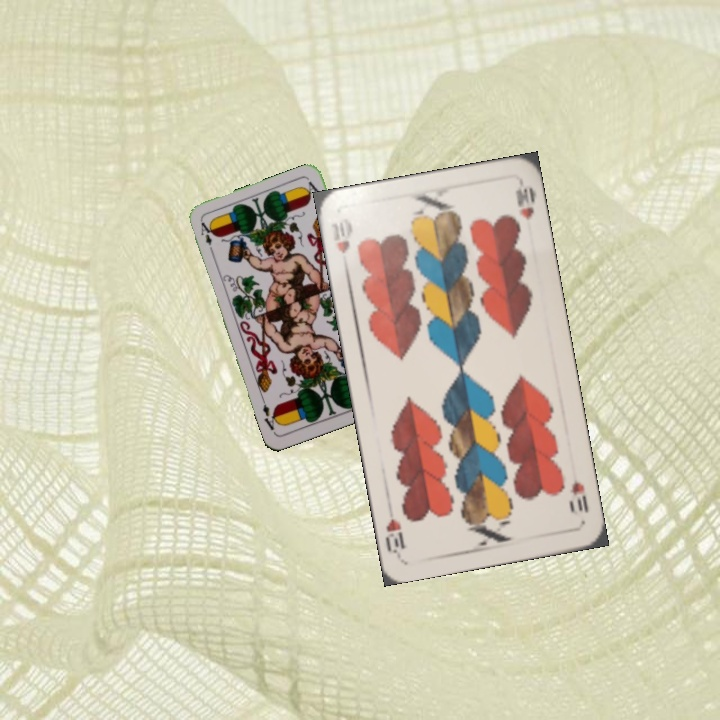EA: (196, 218, 217, 257)
H10: (327, 218, 353, 256), (567, 477, 591, 516)
